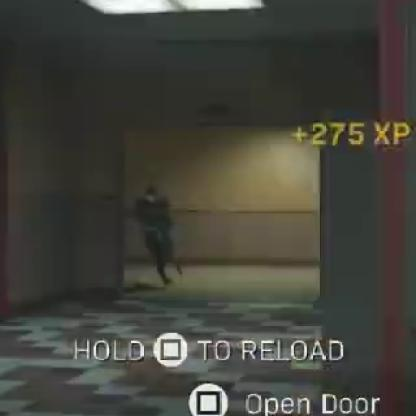enemy: (131, 182, 181, 287)
